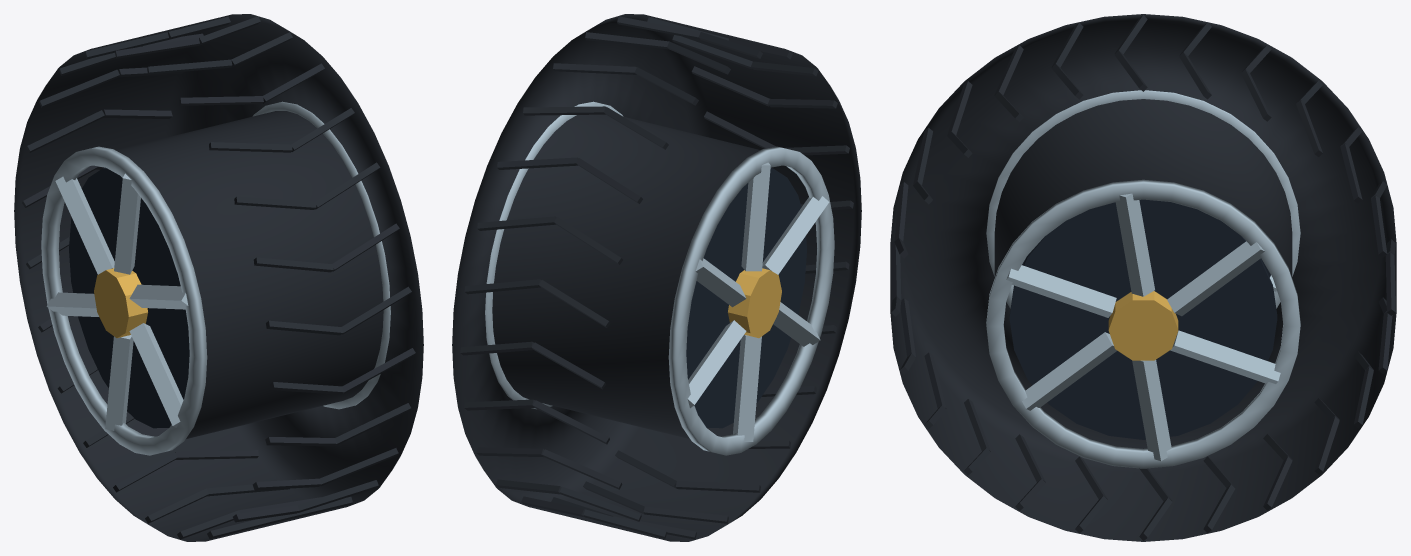
File: rally.glb
The picture shows the model from 3 angles, left to right: view 1: azimuth 30°, elevation 25°; view 2: azimuth 150°, elevation 25°; view 3: azimuth 270°, elevation 25°; orthographic projection.
Parts seen in each view (by area): view 1: Wheel; view 2: Wheel; view 3: Wheel.
Boxes of the visible parts, left/top/right/bottom form: Wheel: left=14, top=14, right=423, bottom=541; Wheel: left=452, top=14, right=861, bottom=541; Wheel: left=890, top=14, right=1396, bottom=541.
Size of the model in its own units: 0.334 by 0.68 by 0.68.
